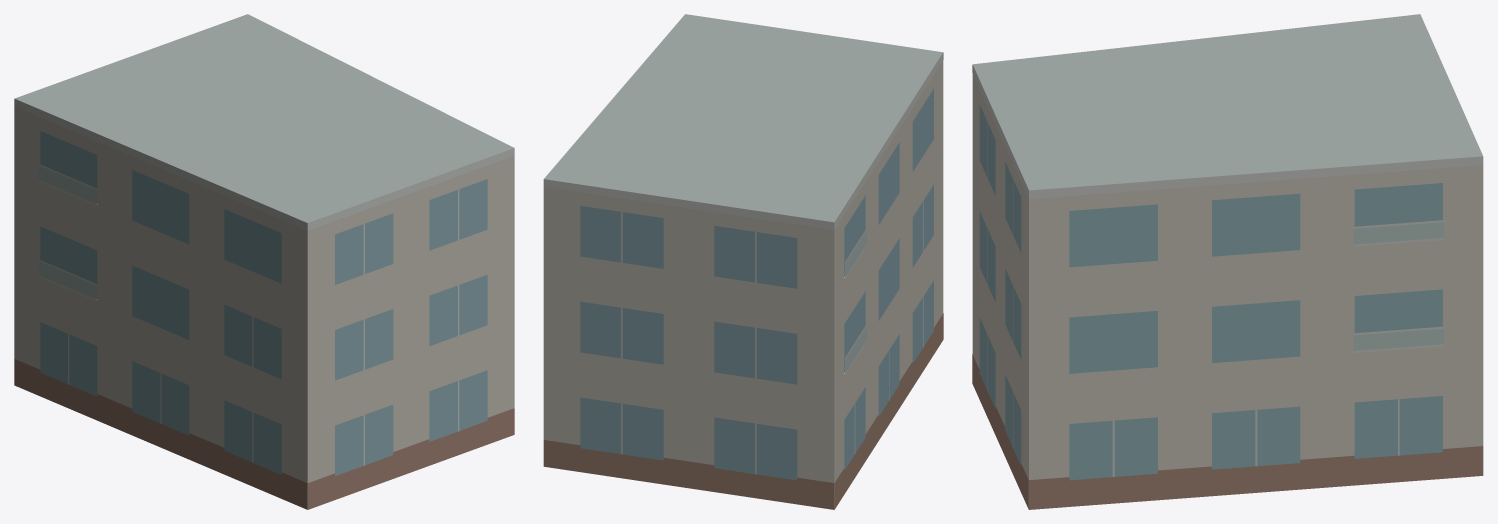
File: survey-upis-32926345.glb
3 views of the same model, side by side, from view 1: azimuth 30°, elevation 25°; view 2: azimuth 150°, elevation 25°; view 3: azimuth 270°, elevation 25° (orthographic). The views are drawn at different scales.
Visible parts, largest first — view 1: survey-upis-32926345.tmp; view 2: survey-upis-32926345.tmp; view 3: survey-upis-32926345.tmp.
Boxes of the visible parts, x1,y1,x2,y2 form: survey-upis-32926345.tmp: [14, 14, 514, 509]; survey-upis-32926345.tmp: [543, 14, 943, 509]; survey-upis-32926345.tmp: [972, 14, 1483, 509].
Bounding box in the file's own units: 10.85 × 9.15 × 13.27.
